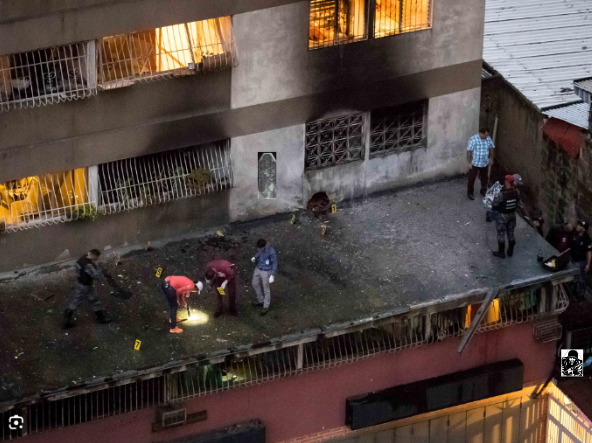HVT1: (258, 153, 276, 199), (561, 349, 582, 376)
